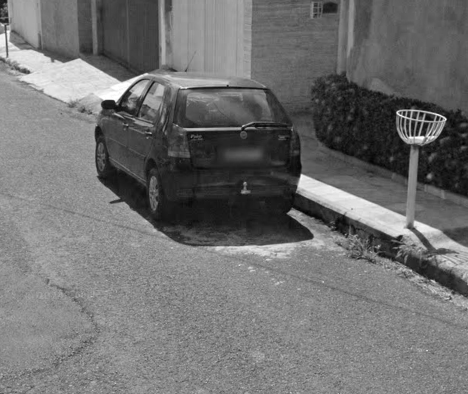car: (89, 48, 311, 225)
